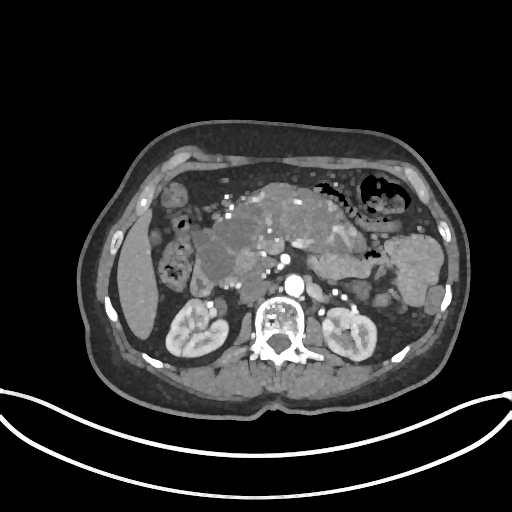Lesion: (321, 318, 336, 335)
